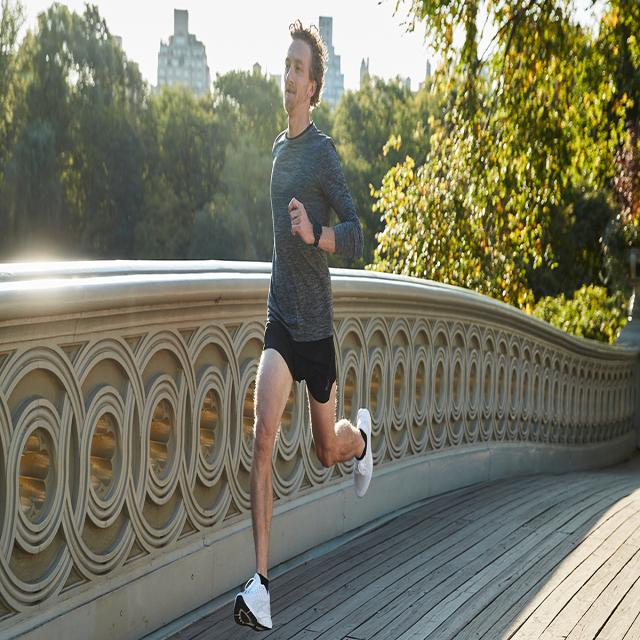Person: (233, 22, 372, 633)
